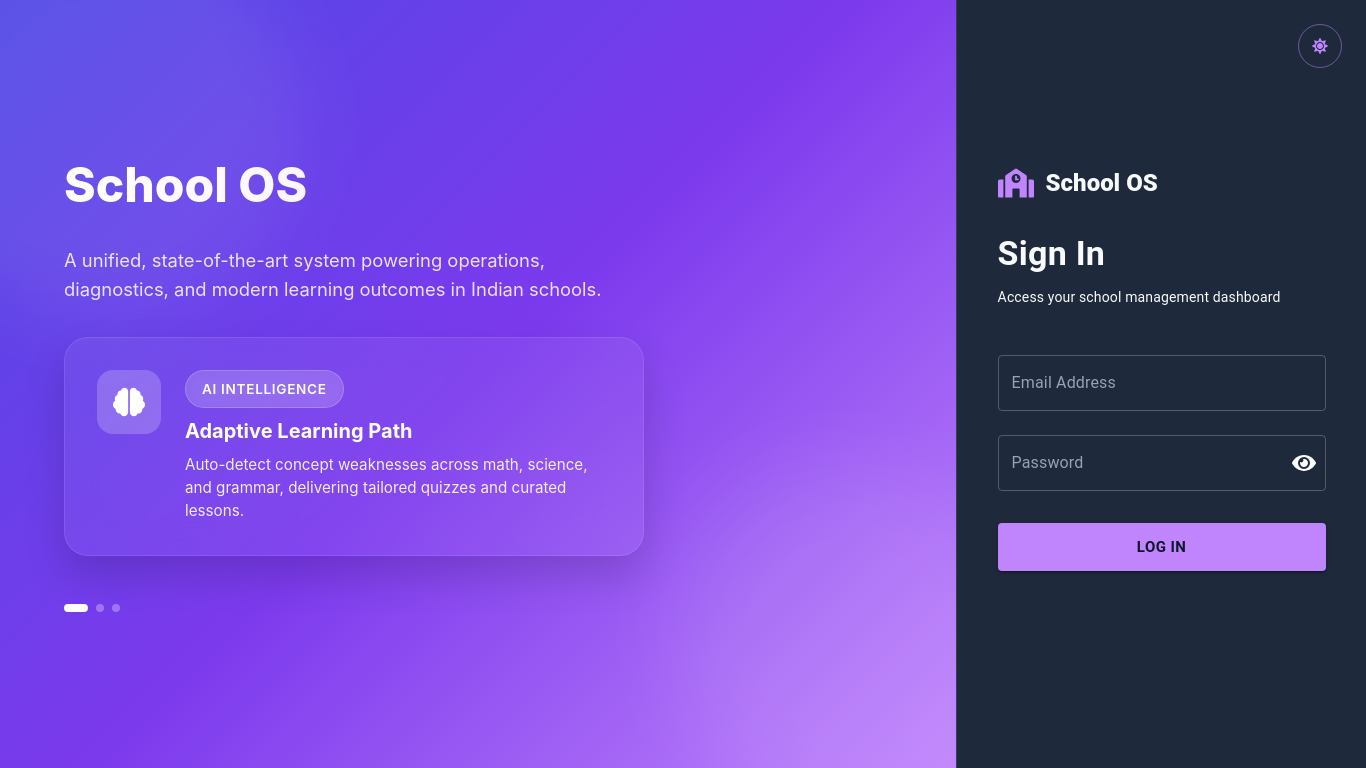
Test case: App Authentication and Dashboard Lifecycle › renders login page by default and allows logging in via Admin demo credentials
This screenshot has width=1366, height=768.
Expected: the heading "Sign In" is shown, [998, 233, 1105, 273]
Expected: the text "Access your school management dashboard" is shown, [998, 287, 1326, 307]
In the field labelled "Email Address": (1162, 383) [998, 355, 1326, 411], type "aryan@schoolos.com"
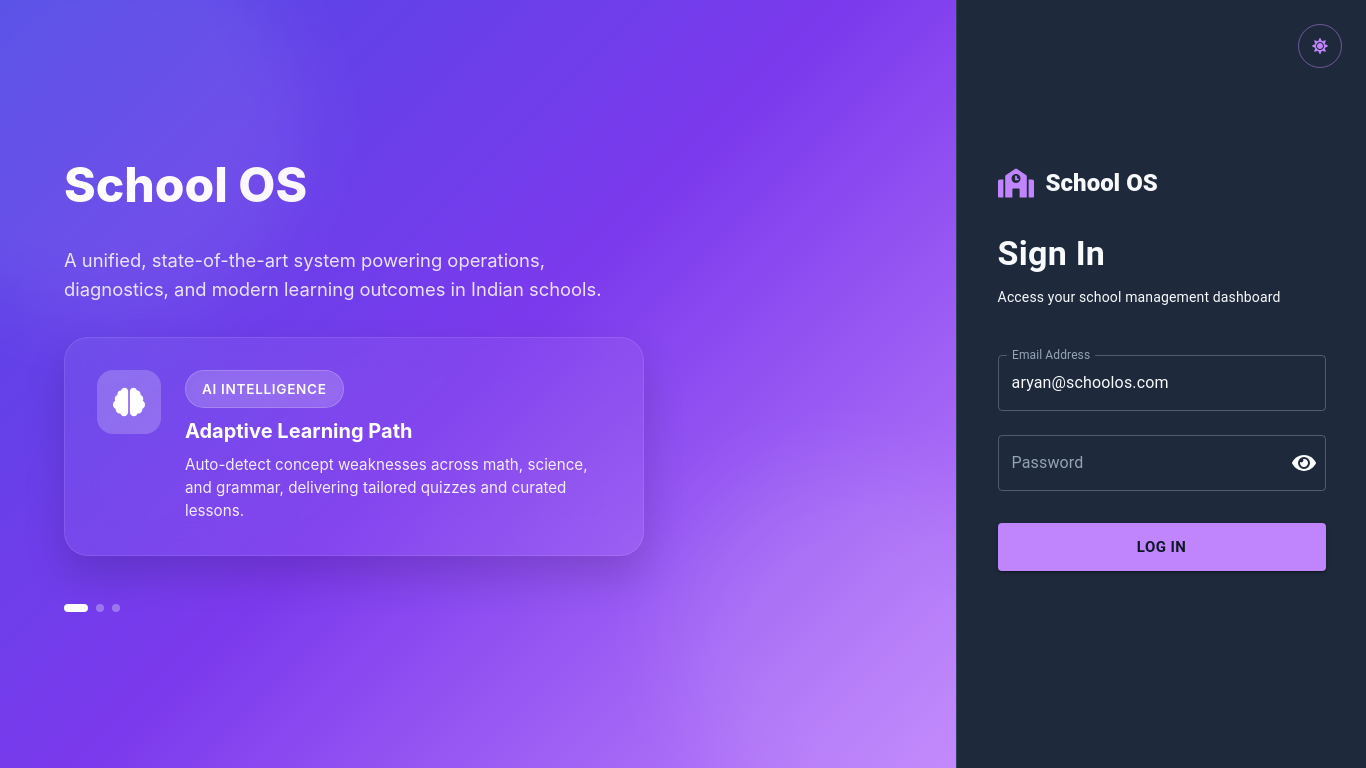
In the password field labelled "Password": (1137, 463) [998, 435, 1276, 491], type "admin123"
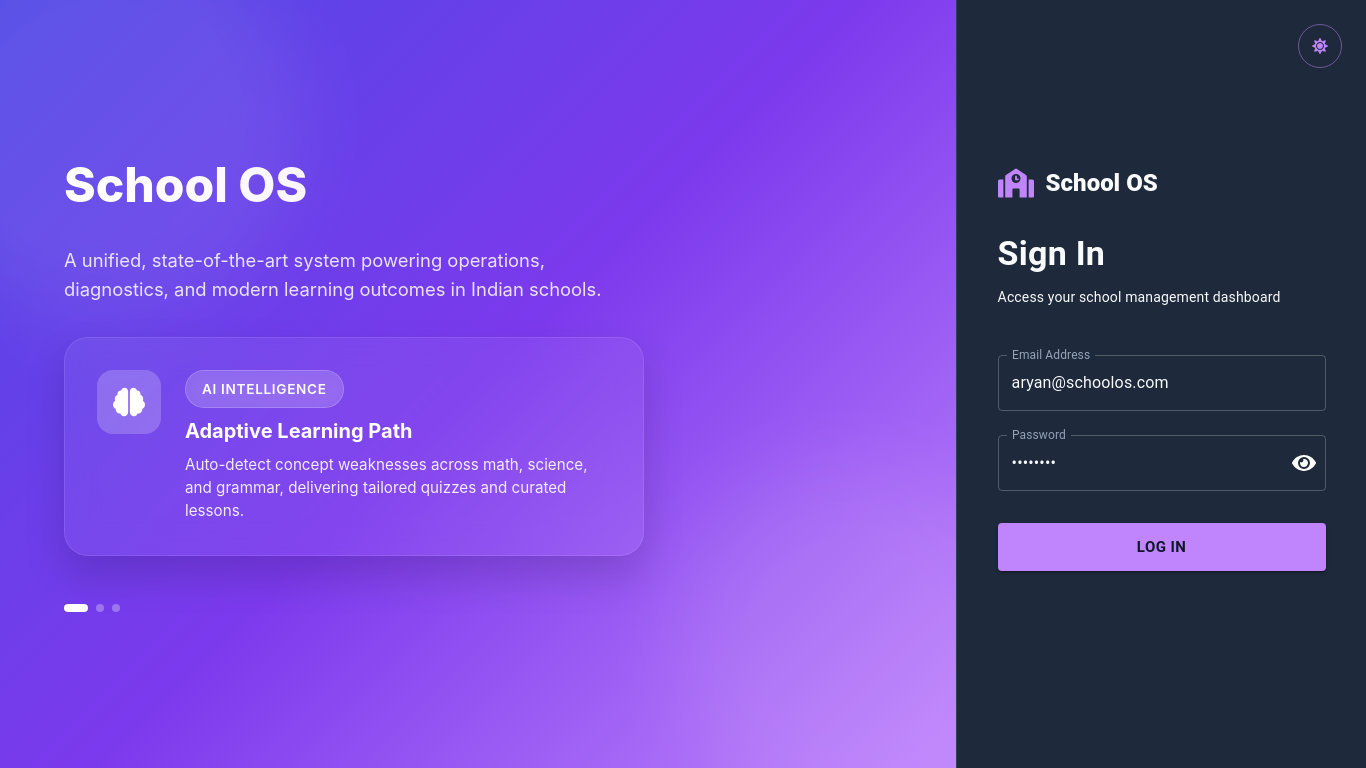
// Submit the Login form
Click the button "Log In": (1162, 547) [998, 523, 1326, 571]
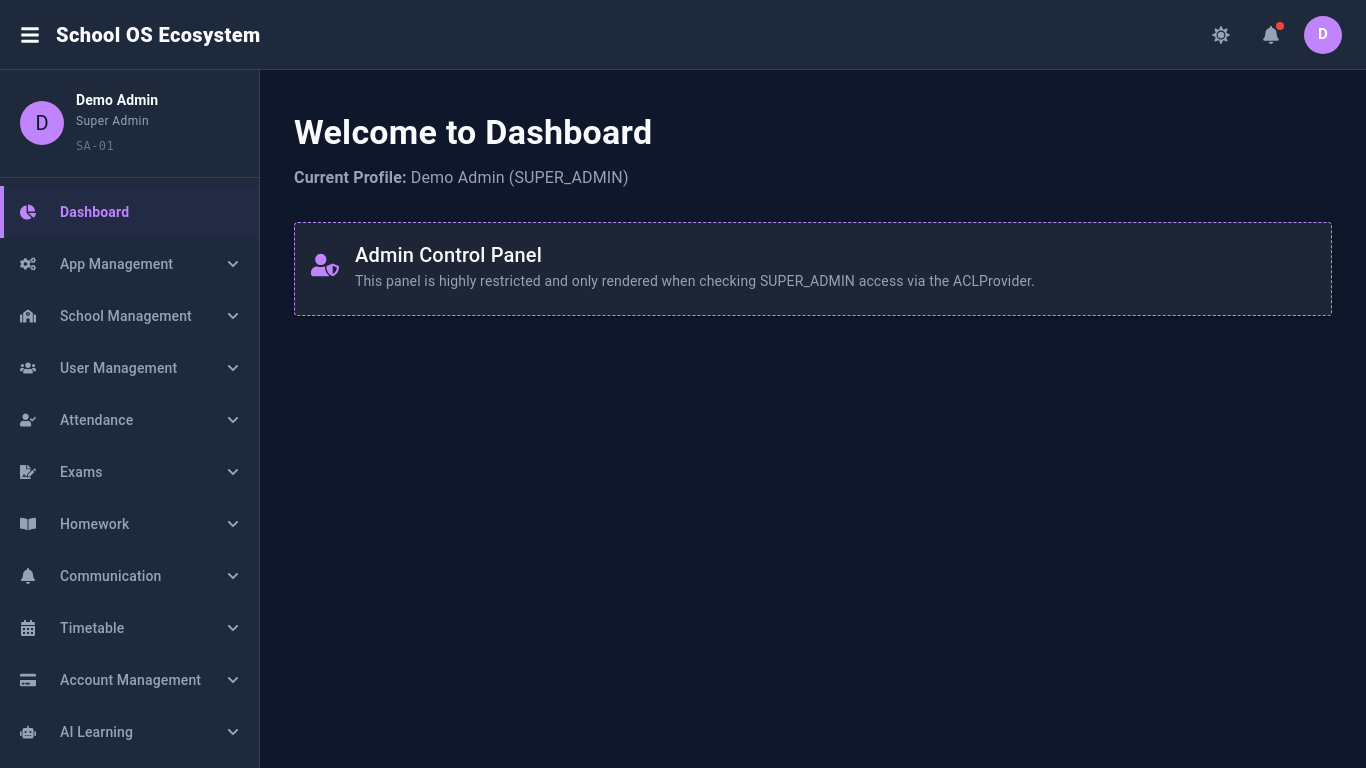
Expected: the heading "School OS Ecosystem" is shown, [56, 18, 261, 50]
Expected: the heading "Welcome to Dashboard" is shown, [294, 112, 652, 152]
Expected: the text with test id "profile-user" reads "Demo Admin (SUPER_ADMIN)", [411, 168, 629, 187]
// Test Logout functionality
Click the button with test id "avatar-menu-button": (1323, 34) [1304, 16, 1342, 54]
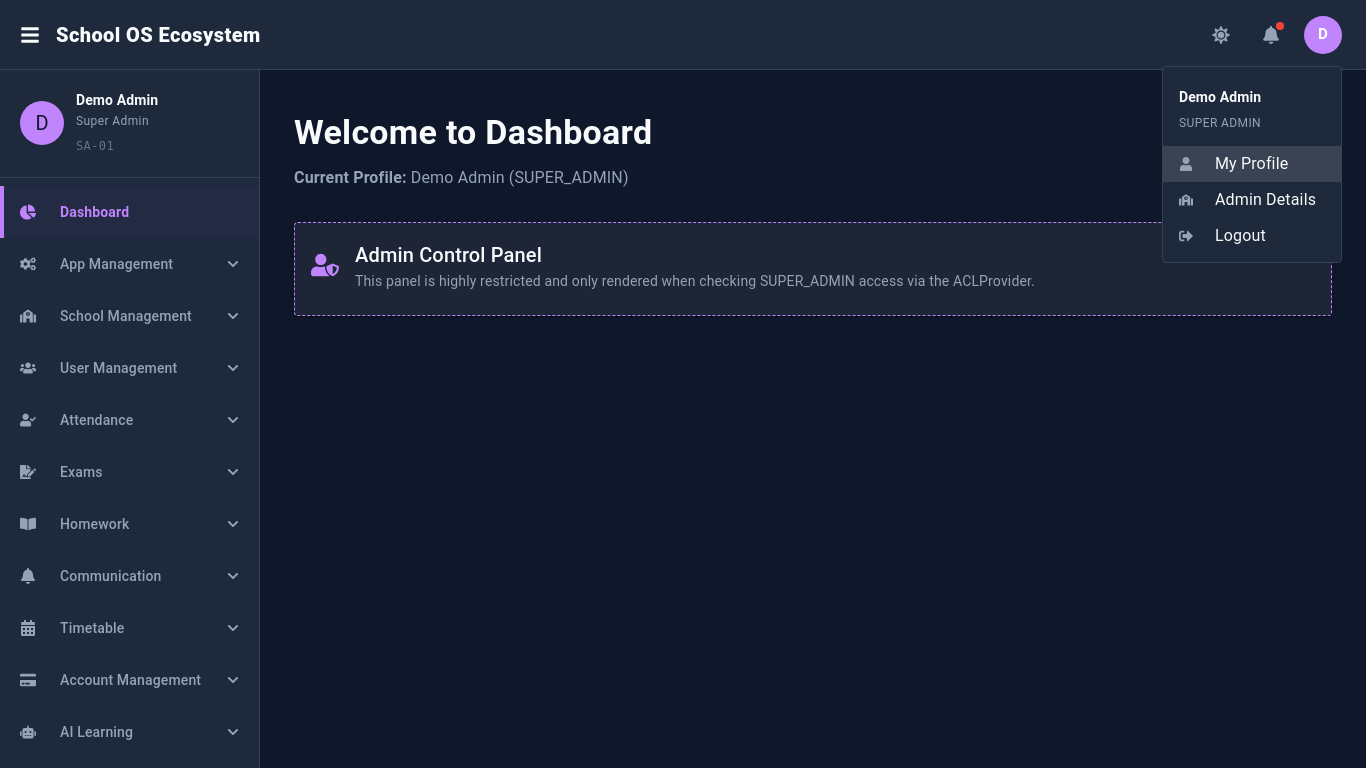
Click the menu item with test id "logout-menu-item": (1222, 235) [1179, 226, 1266, 245]
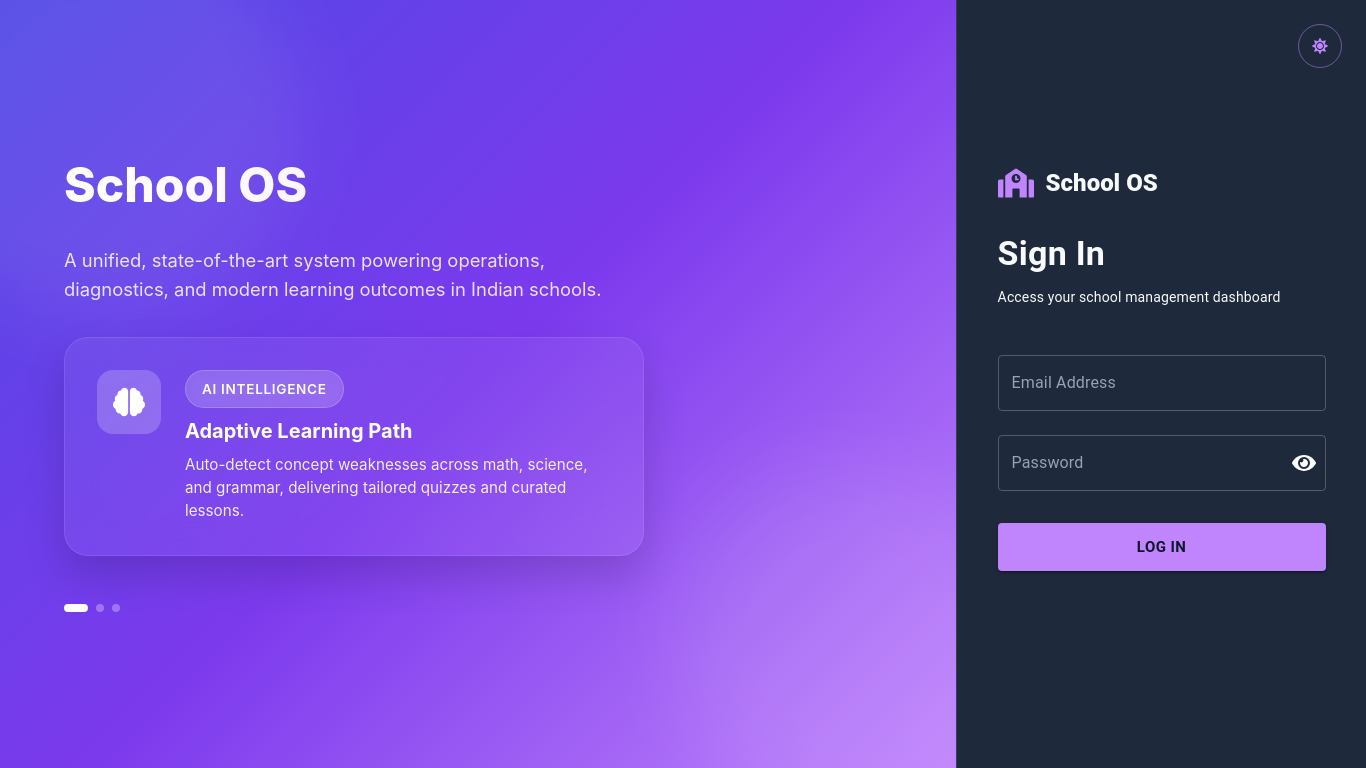
Expected: the heading "Sign In" is shown, [998, 233, 1105, 273]
Expected: the heading "School OS Ecosystem" is gone
